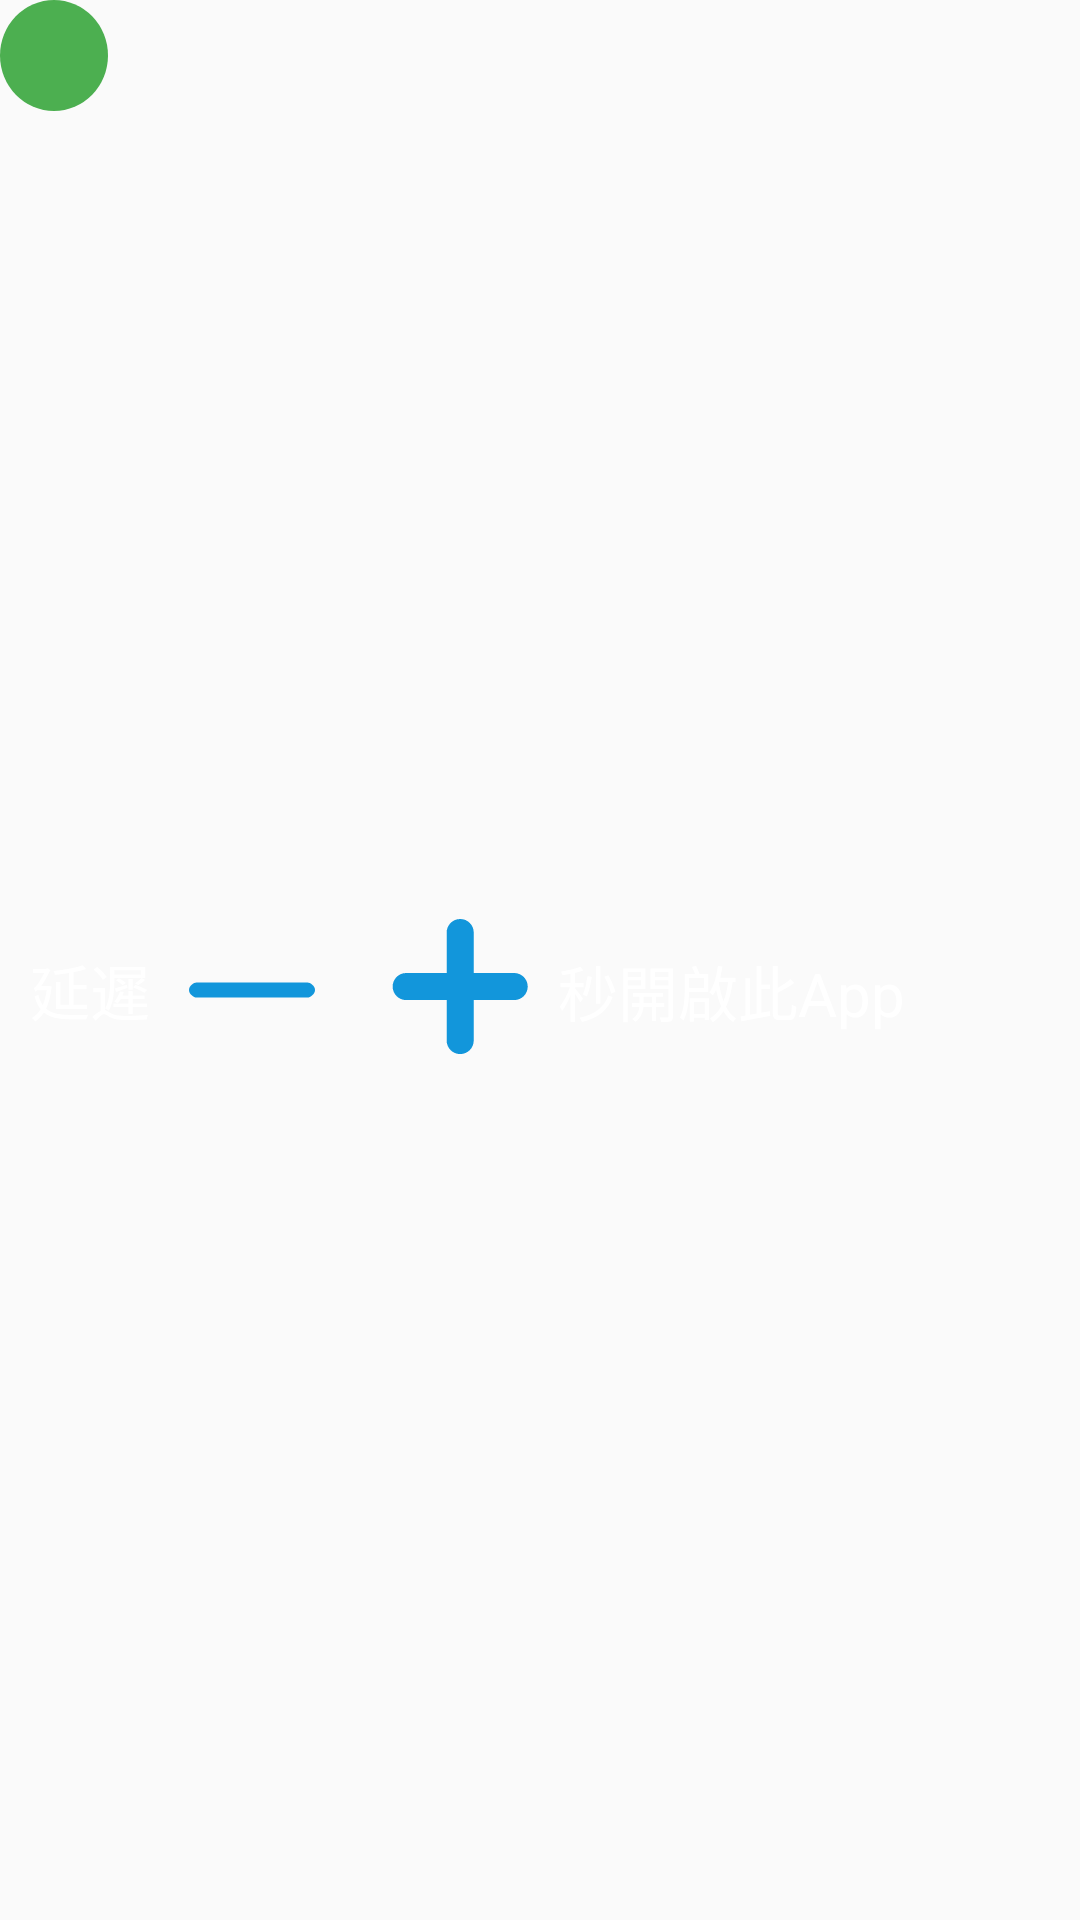

Where icons sit on this 1080 × 1920 app screen, as {"left": x1, "top": y1, "right": x2, "bottom": y2}:
plus: {"left": 392, "top": 919, "right": 528, "bottom": 1054}
